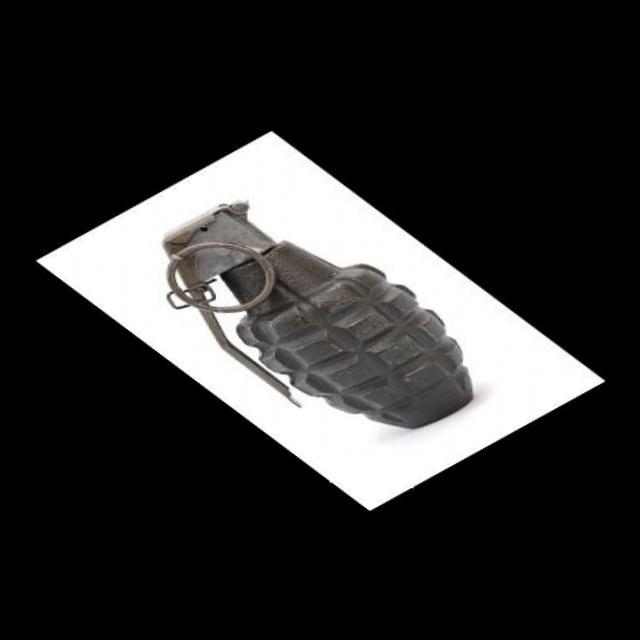grenade: (136, 192, 508, 434)
